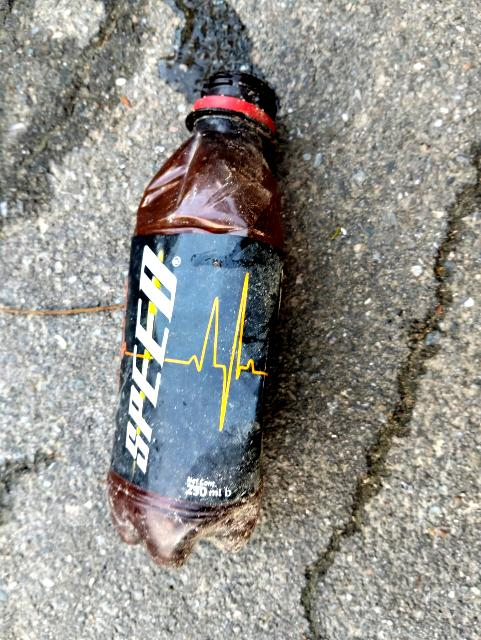bottle: (93, 54, 326, 556)
